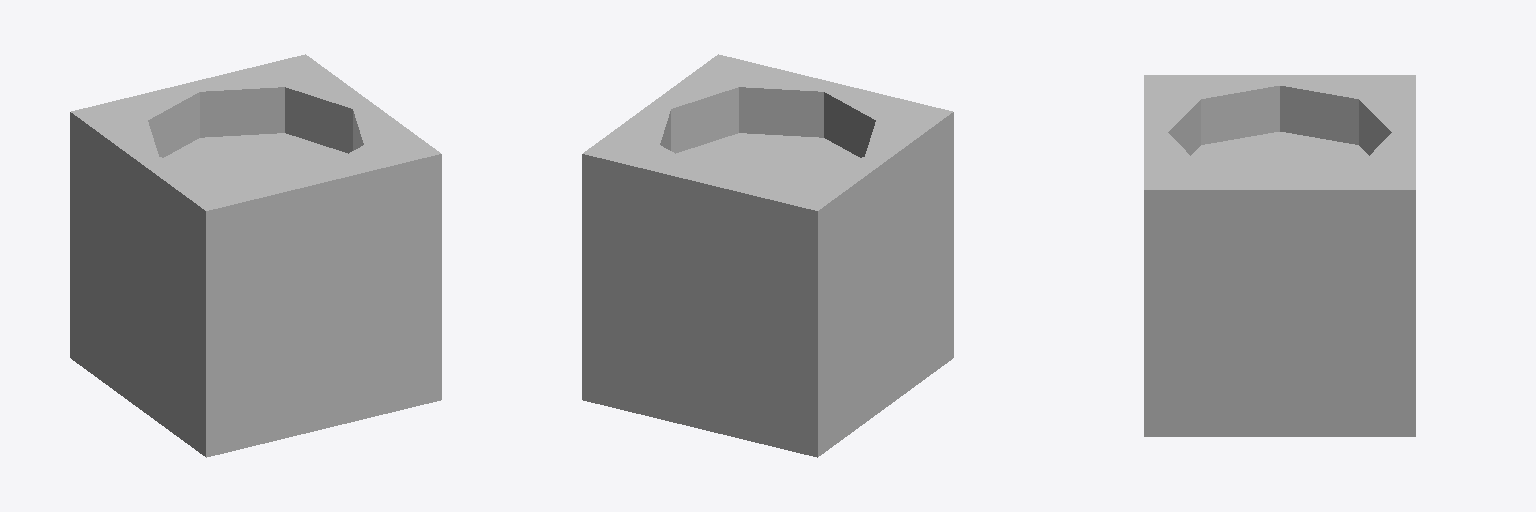
The model's file is ButtonBase.obj.
3 renders of one model, left to right at view 1: azimuth 30°, elevation 25°; view 2: azimuth 150°, elevation 25°; view 3: azimuth 270°, elevation 25°, orthographic.
Parts seen in each view (by area): view 1: Button_Base; view 2: Button_Base; view 3: Button_Base.
Boxes of the visible parts, <box> form: Button_Base: <box>70,54,441,457</box>; Button_Base: <box>582,54,953,457</box>; Button_Base: <box>1144,75,1415,436</box>.
Bounding box in the file's own units: 0.1732 × 0.1732 × 0.1732.